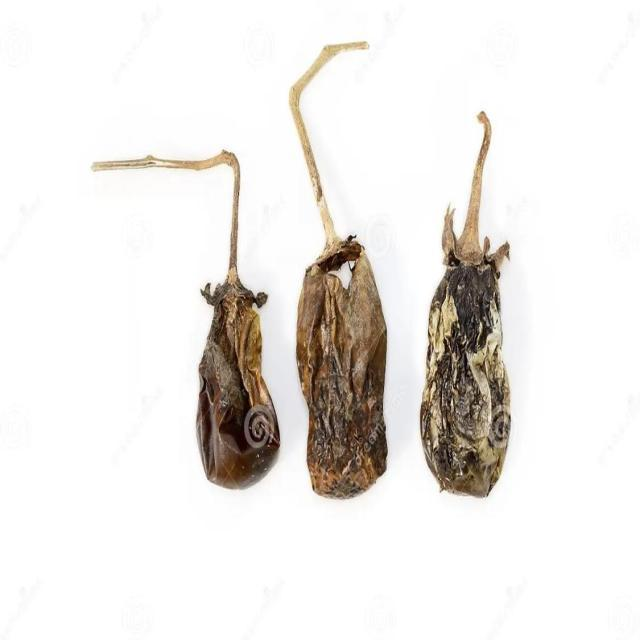eggplant: (92, 148, 280, 490), (287, 39, 388, 499), (419, 110, 510, 499)
